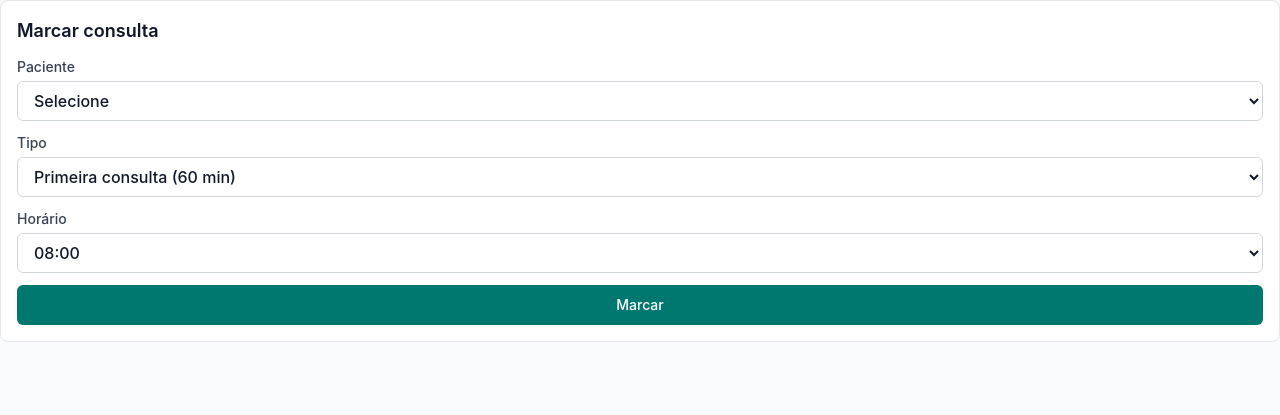
RN04: Exclusividade de Atendimento e Prevenção de Conflitos (Front-end) › exibe alerta de erro na recepção ao tentar agendar horário ocupado
This screenshot has width=1280, height=415.
// Selecionar paciente
Select "Mariana Silva" in the dropdown labelled "Paciente" at (640, 101), box [17, 81, 1263, 121]
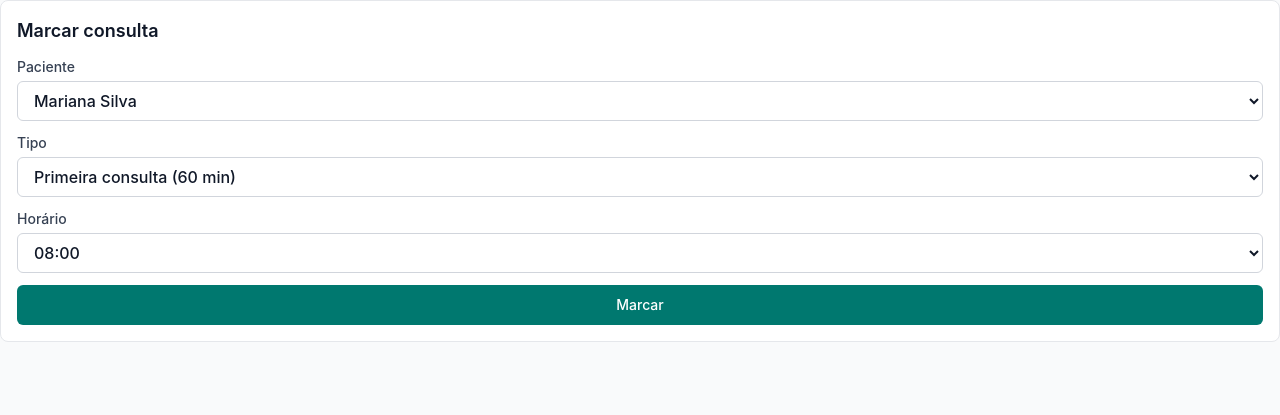
// Submeter formulário
Click the button "Marcar".
click(640, 305)  # box [17, 285, 1263, 325]
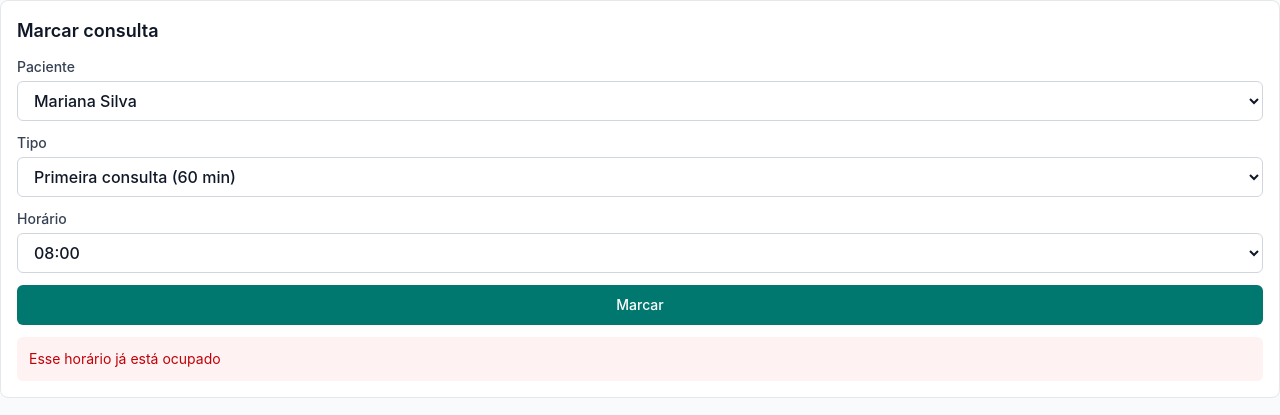
Expected: the text "Esse horário já está ocupado" is shown, [17, 337, 1263, 381]
